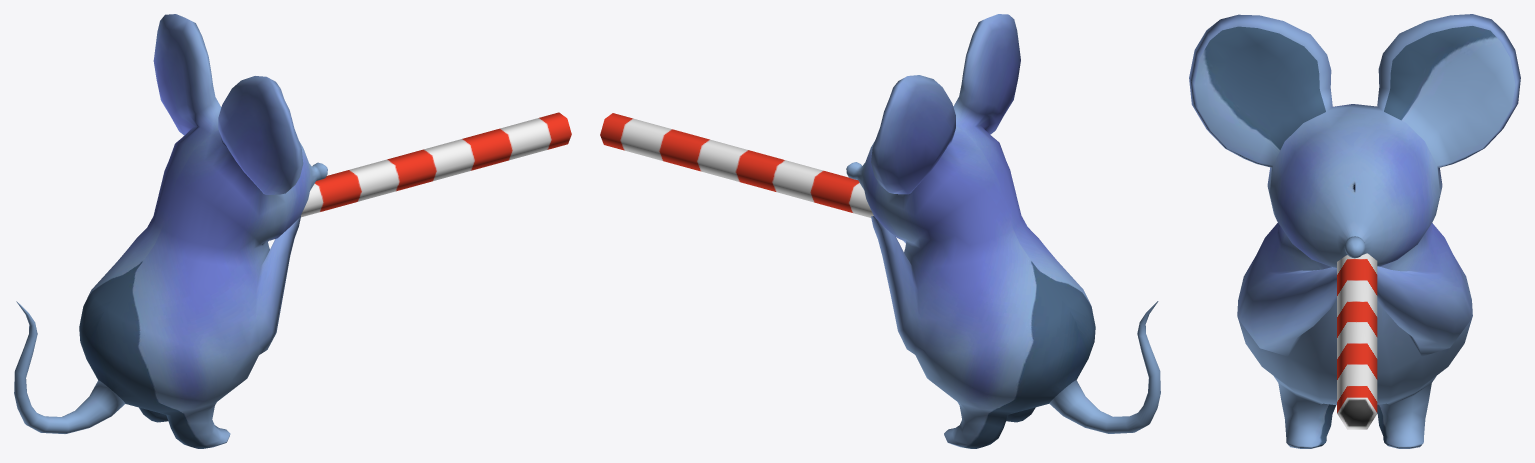
Rendered from SniperTowerMouse.obj.
3 views of the same model, side by side, from view 1: azimuth 30°, elevation 25°; view 2: azimuth 150°, elevation 25°; view 3: azimuth 270°, elevation 25° (orthographic). The views are drawn at different scales.
Visible parts, largest first — view 1: MouseBase2, Straw; view 2: MouseBase2, Straw; view 3: MouseBase2, Straw.
Boxes of the visible parts, box(x1,y1,x2,y2) form: MouseBase2: box(14, 14, 327, 448); Straw: box(301, 112, 571, 217); MouseBase2: box(846, 14, 1160, 448); Straw: box(600, 113, 873, 217); MouseBase2: box(1189, 14, 1520, 448); Straw: box(1337, 253, 1377, 429).
Bounding box in the file's own units: 1.91 × 1.25 × 0.8224.
